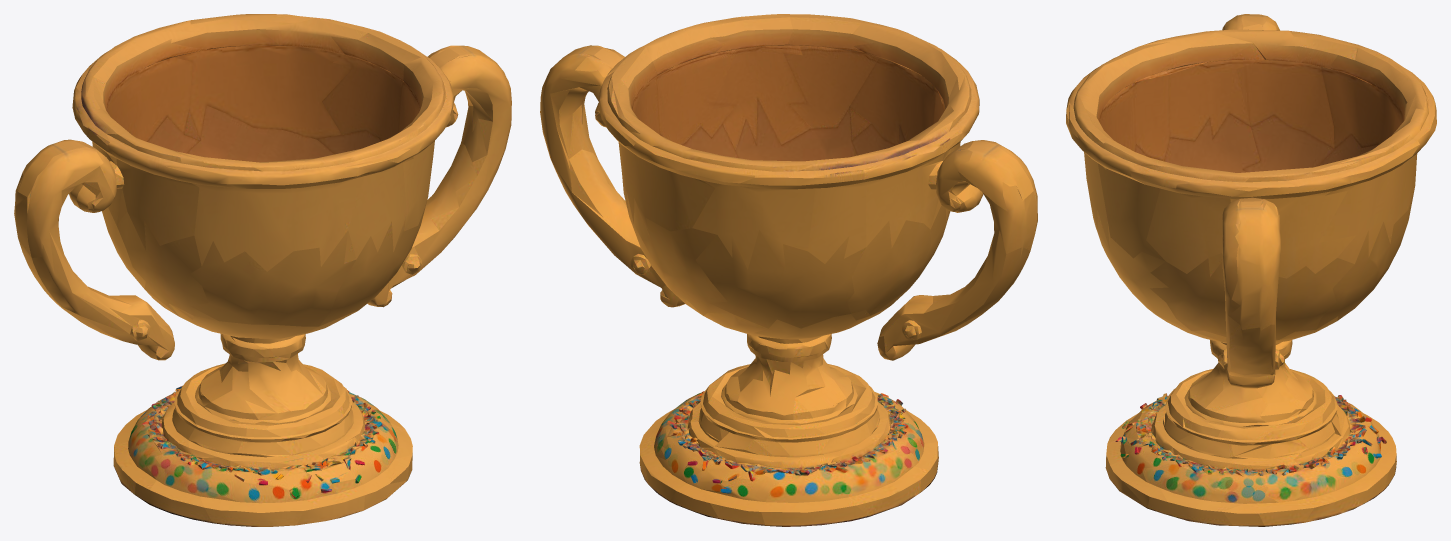
Rendered from giant-trophy.glb.
The picture shows the model from 3 angles, left to right: view 1: azimuth 30°, elevation 25°; view 2: azimuth 150°, elevation 25°; view 3: azimuth 270°, elevation 25°; orthographic projection. The views are drawn at different scales.
Parts seen in each view (by area): view 1: mesh_node; view 2: mesh_node; view 3: mesh_node.
Part boxes in pixels (x1,y1,x2,y2): mesh_node: (14,14,511,526); mesh_node: (540,14,1037,526); mesh_node: (1066,14,1436,526).
Size of the model in its own units: 1.9 by 1.4 by 1.3.
Materials: 1 (1 with a texture image).
